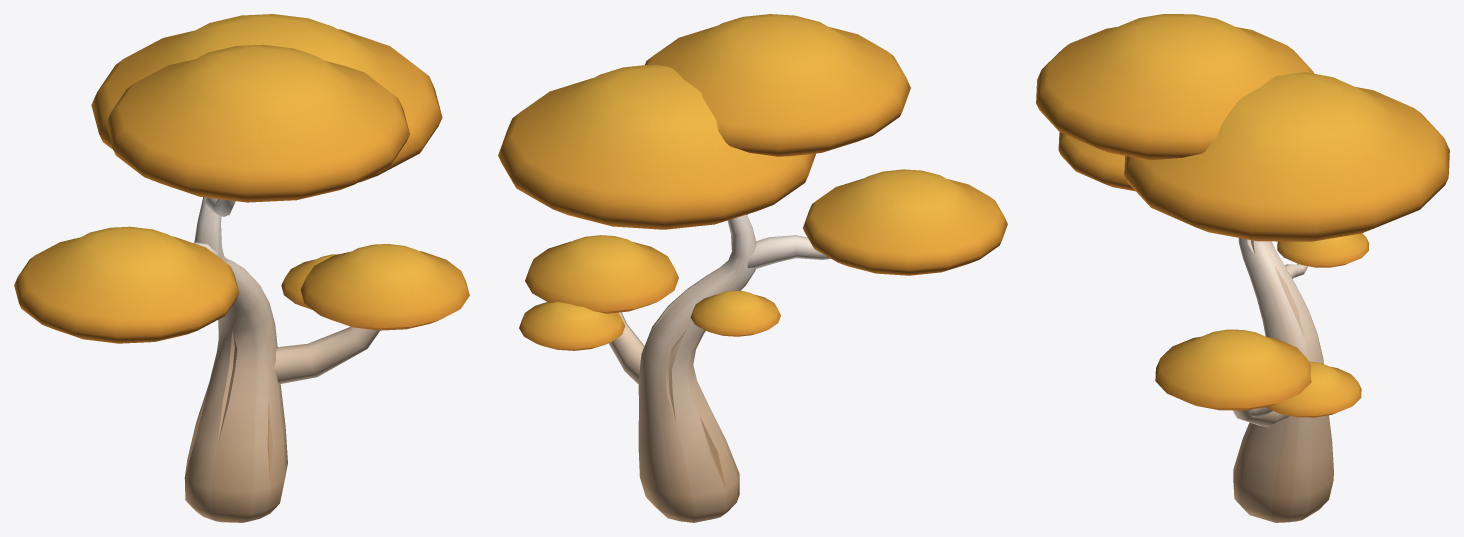
The model's file is Tree_3_C_Color5.fbx.
The picture shows the model from 3 angles, left to right: view 1: azimuth 30°, elevation 25°; view 2: azimuth 150°, elevation 25°; view 3: azimuth 270°, elevation 25°; orthographic projection. The views are drawn at different scales.
Parts seen in each view (by area): view 1: Tree_3_C_Color5; view 2: Tree_3_C_Color5; view 3: Tree_3_C_Color5.
Part boxes in pixels (box(x1,y1,x2,y2)): Tree_3_C_Color5: box(14, 14, 469, 522); Tree_3_C_Color5: box(498, 14, 1007, 522); Tree_3_C_Color5: box(1036, 14, 1449, 522).
Bounding box in the file's own units: 5.63 × 5.79 × 4.62.
